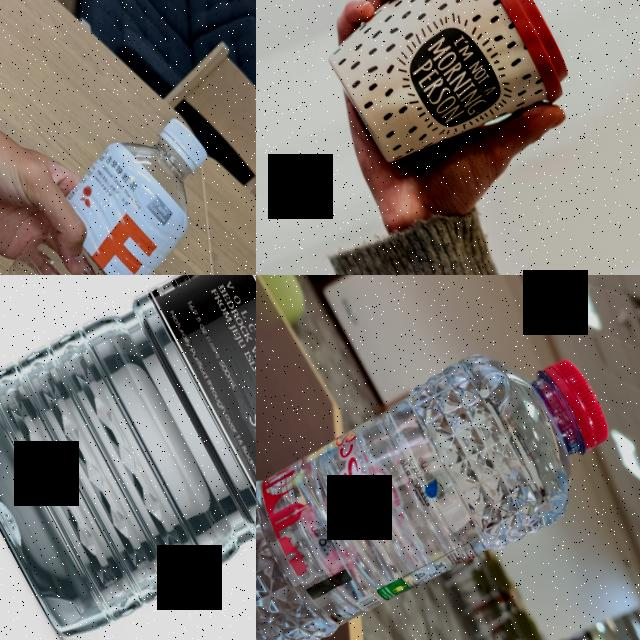bottle: (256, 308, 640, 640), (0, 275, 256, 640), (0, 102, 256, 275)
cup: (295, 0, 584, 193)
